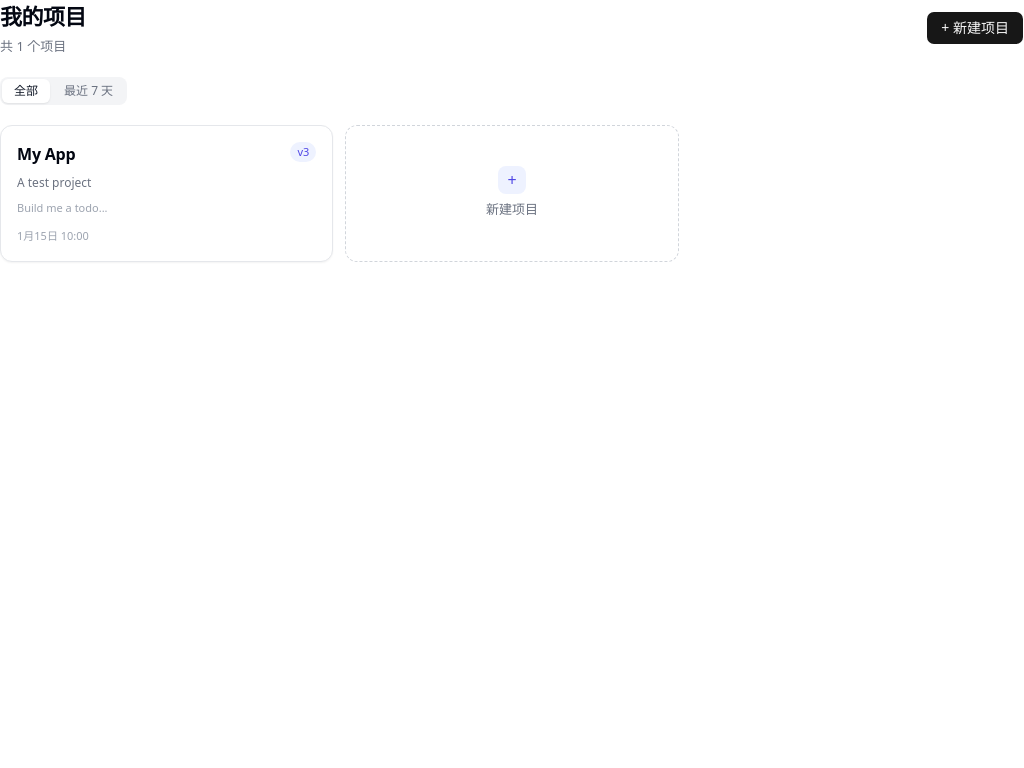
Test: ProjectList › UI-PL-04: + 新建项目 button opens dialog
Click the button with test id "btn-new-project".
click(975, 28)  # box [926,11,1023,45]
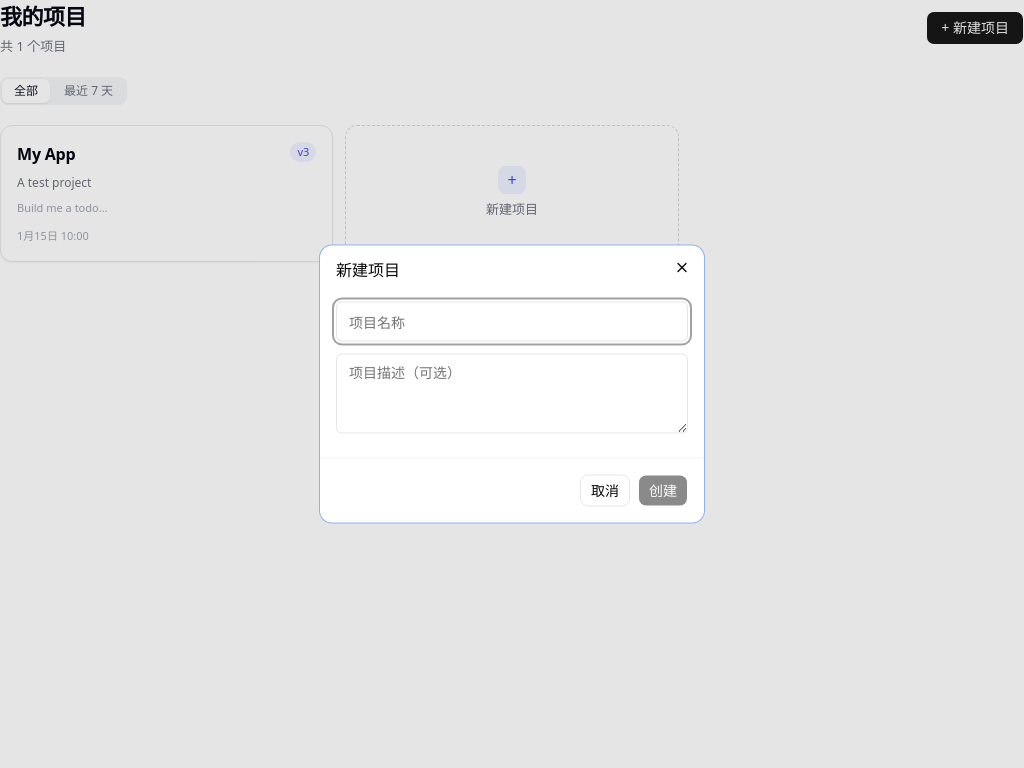
Expected: the dialog is shown, [320,246,704,522]
Expected: the field with placeholder "项目名称" is shown, [336,302,688,342]
